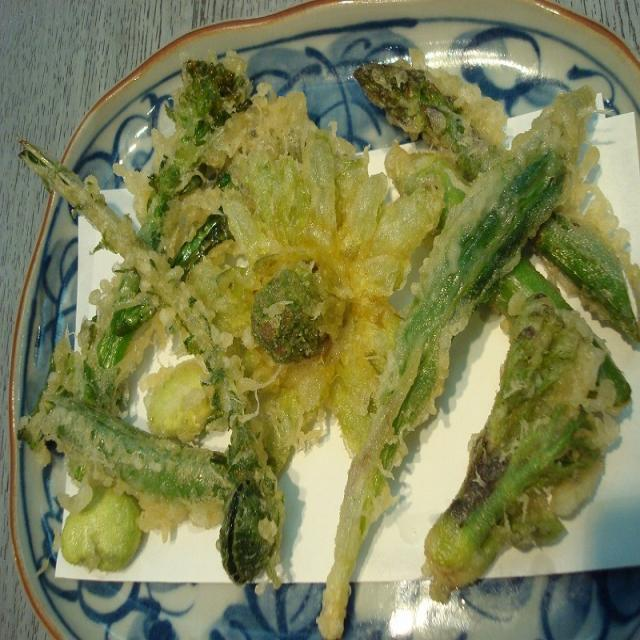蔬菜料理: (0, 18, 640, 612)
